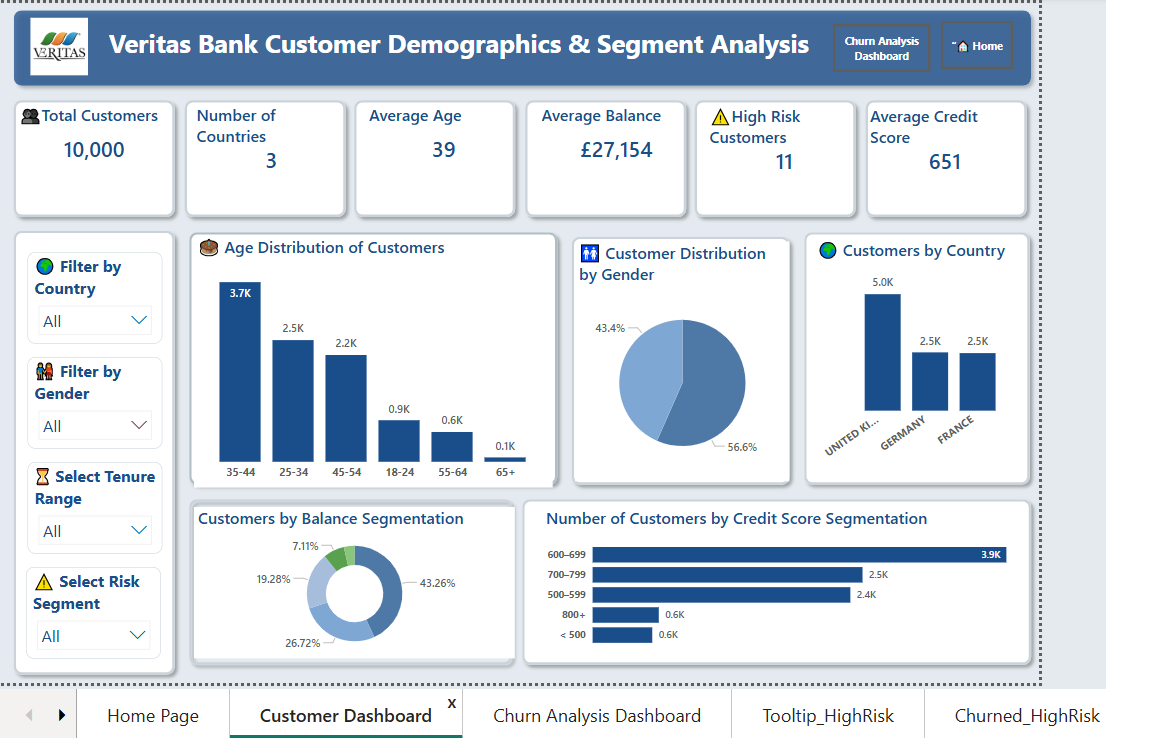

The dashboard page shown, as its layout file describes it:
{"tool":"powerbi","page":{"name":"Customer Dashboard","canvas":[1300,850],"ordinal":1},"visuals":[{"type":"shape","box":[9.2,0,1290.7,112.5],"z":0},{"type":"shape","box":[9.2,112.5,219.4,164.1],"z":1000},{"type":"shape","box":[435.5,112.5,219.4,164.1],"z":2000},{"type":"shape","box":[648.7,112.5,219.4,164.1],"z":3000},{"type":"shape","box":[861.8,112.5,219.4,164.1],"z":4000},{"type":"shape","box":[1074.9,112.5,219.4,164.1],"z":5000},{"type":"shape","box":[222.4,112.5,219.4,164.1],"z":6000},{"type":"shape","box":[9.2,276.6,219.4,573.4],"z":7000},{"type":"shape","box":[228.9,277.7,478.5,334],"z":8000},{"type":"shape","box":[645.5,611.7,654.9,225.2],"z":9000},{"type":"shape","box":[998.2,277.7,300.2,334],"z":10000},{"type":"shape","box":[228.9,611.7,422.2,225.2],"z":11000},{"type":"textbox","box":[120.1,22.5,910,90.1],"z":12000},{"type":"card","title":"👥Total Customers","fields":{"Values":["Calculated Measure.Total Customers"]},"box":[20.6,125.7,197,88.2],"z":13000},{"type":"card","title":"Number of Countries","fields":{"Values":["Count(Dim_Customer.Country)"]},"box":[242.1,125.7,197,88.2],"z":14000},{"type":"card","title":"Average Age","fields":{"Values":["Avg(Dim_Customer.Age)"]},"box":[457.8,125.7,197,88.2],"z":15000},{"type":"card","title":"Average Balance","fields":{"Values":["Avg(Fact_Account.Balance)"]},"box":[673.6,125.7,197,88.2],"z":16000},{"type":"card","title":"⚠️High Risk Customers","fields":{"Values":["Calculated Measure.High Risk Customers"]},"box":[883.8,127.6,197,88.2],"z":17000},{"type":"card","title":"Average Credit Score","fields":{"Values":["Avg(Fact_Account.CreditScore)"]},"box":[1084.5,127.6,197,88.2],"z":18000},{"type":"columnChart","title":"🎂 Age Distribution of Customers","fields":{"Category":["Dim_Customer.AgeGroup"],"Y":["Calculated Measure.Total Customers"]},"box":[243.9,290.8,448.5,315.2],"z":19000},{"type":"shape","box":[707.4,283.3,290.8,328.4],"z":20000},{"type":"pieChart","title":"🚻 Customer Distribution by Gender","fields":{"Category":["vw_ChurnByDemographics.Gender"],"Y":["CountNonNull(vw_ChurnByDemographics.CustomerId)"]},"box":[721.5,298.3,268.3,300.2],"z":21000},{"type":"columnChart","title":" 🌍 Customers by Country","fields":{"Category":["vw_ChurnByDemographics.Country"],"Y":["CountNonNull(vw_ChurnByDemographics.CustomerId)"]},"box":[1018.9,294.6,258.9,300.2],"z":22000},{"type":"barChart","title":"Number of Customers by Credit Score Segmentation","fields":{"Category":["Fact_Account.CreditScoreGroup"],"Y":["CountNonNull(Fact_Account.CustomerId)"]},"box":[679.2,630.5,602.3,185.8],"z":23000},{"type":"donutChart","title":" Customers by Balance Segmentation","fields":{"Y":["Count(Fact_Account.CustomerId)"],"Category":["Fact_Account.BalanceSegment"]},"box":[243.9,630.5,401.5,189.5],"z":24000},{"type":"slicer","title":"🌍 Filter by Country","fields":{"Values":["Dim_Customer.Country"]},"box":[35.7,311.5,168.9,114.5],"z":25000},{"type":"slicer","title":"👫 Filter by Gender","fields":{"Values":["Dim_Customer.Gender"]},"box":[35.7,442.8,168.9,114.5],"z":26000},{"type":"slicer","title":"⏳ Select Tenure Range","fields":{"Values":["Fact_Account.Tenure Group"]},"box":[35.7,574.2,168.9,114.5],"z":27000},{"type":"slicer","title":"⚠️ Select Risk Segment","fields":{"Values":["Fact_Account.EnhancedRiskSegment"]},"box":[33.8,705.5,168.9,114.5],"z":28000},{"type":"image","box":[0,13.1,150.1,82.6],"z":29000},{"type":"actionButton","box":[1178.4,22.5,90,60],"z":30000},{"type":"actionButton","box":[1043.3,26.3,122,60],"z":31000}]}

Visuals, with their boxes on the page's 1300x850 design canvas (x1, y1, x2, y2). These are canvas units, not pixel positions in the 1152x738 screenshot, which may show the page scaled, cropped or inside an application window:
shape: (9, 0, 1300, 112)
shape: (9, 112, 229, 277)
shape: (436, 112, 655, 277)
shape: (649, 112, 868, 277)
shape: (862, 112, 1081, 277)
shape: (1075, 112, 1294, 277)
shape: (222, 112, 442, 277)
shape: (9, 277, 229, 850)
shape: (229, 278, 707, 612)
shape: (646, 612, 1300, 837)
shape: (998, 278, 1298, 612)
shape: (229, 612, 651, 837)
textbox: (120, 22, 1030, 113)
"👥Total Customers" card: (21, 126, 218, 214)
"Number of Countries" card: (242, 126, 439, 214)
"Average Age" card: (458, 126, 655, 214)
"Average Balance" card: (674, 126, 871, 214)
"⚠️High Risk Customers" card: (884, 128, 1081, 216)
"Average Credit Score" card: (1084, 128, 1282, 216)
"🎂 Age Distribution of Customers" columnChart: (244, 291, 692, 606)
shape: (707, 283, 998, 612)
"🚻 Customer Distribution by Gender" pieChart: (722, 298, 990, 598)
" 🌍 Customers by Country" columnChart: (1019, 295, 1278, 595)
"Number of Customers by Credit Score Segmentation" barChart: (679, 630, 1282, 816)
" Customers by Balance Segmentation" donutChart: (244, 630, 645, 820)
"🌍 Filter by Country" slicer: (36, 312, 205, 426)
"👫 Filter by Gender" slicer: (36, 443, 205, 557)
"⏳ Select Tenure Range" slicer: (36, 574, 205, 689)
"⚠️ Select Risk Segment" slicer: (34, 706, 203, 820)
image: (0, 13, 150, 96)
actionButton: (1178, 22, 1268, 82)
actionButton: (1043, 26, 1165, 86)
